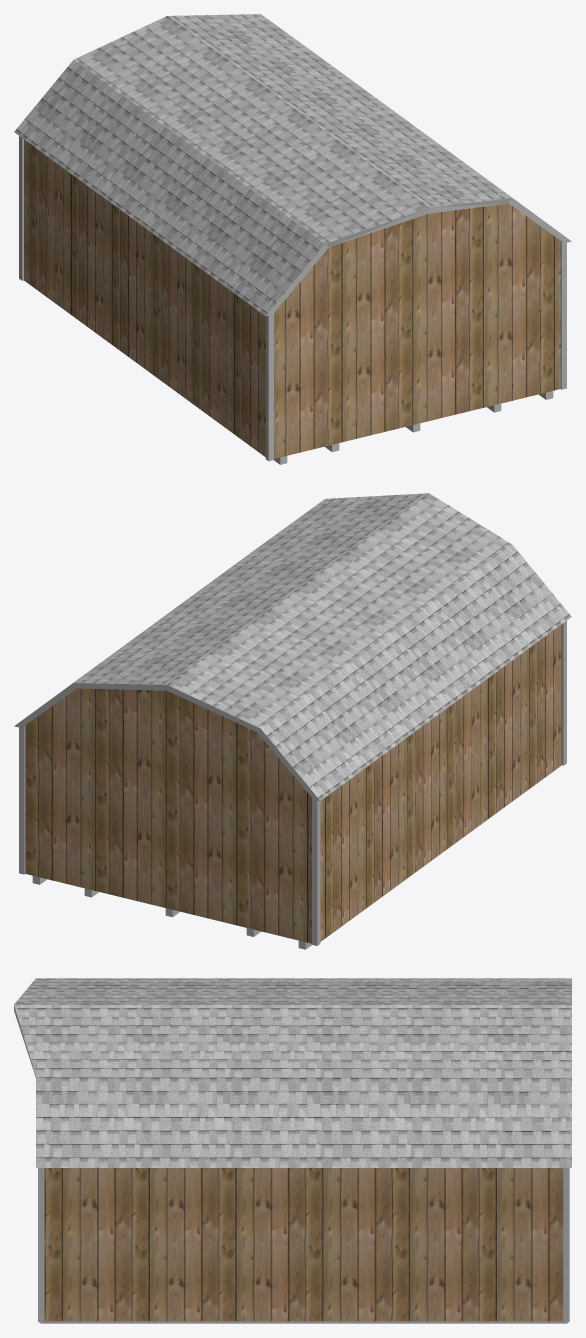
File: High Wall Barns_14x20.obj
3 views of the same model, one above another, from view 1: azimuth 30°, elevation 25°; view 2: azimuth 150°, elevation 25°; view 3: azimuth 270°, elevation 25° (orthographic). The views are drawn at different scales.
Visible parts, largest first — view 1: Shed, Roof, Trim, Sides; view 2: Shed, Roof, Trim, Sides; view 3: Roof, Shed, Trim, Floor.
Part boxes in pixels (x1=…): Shed: x1=24, y1=139, x2=560, y2=458; Roof: x1=14, y1=14, x2=541, y2=315; Trim: x1=19, y1=136, x2=566, y2=461; Sides: x1=266, y1=198, x2=571, y2=315; Shed: x1=25, y1=624, x2=561, y2=943; Roof: x1=38, y1=493, x2=571, y2=800; Trim: x1=19, y1=621, x2=566, y2=945; Sides: x1=14, y1=683, x2=319, y2=800; Roof: x1=14, y1=978, x2=571, y2=1167; Shed: x1=44, y1=1168, x2=563, y2=1321; Trim: x1=38, y1=1168, x2=569, y2=1322; Floor: x1=40, y1=1321, x2=567, y2=1323.
Size of the model in its own units: 4.36 by 3.17 by 6.45.
